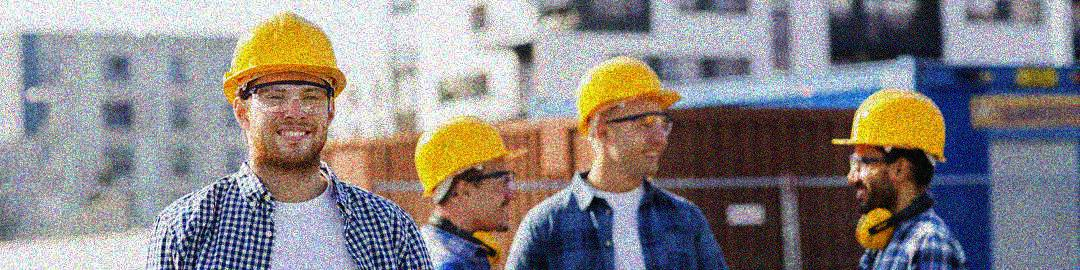helmet: (221, 13, 352, 165), (830, 88, 952, 224), (575, 54, 685, 193), (409, 113, 527, 235)
